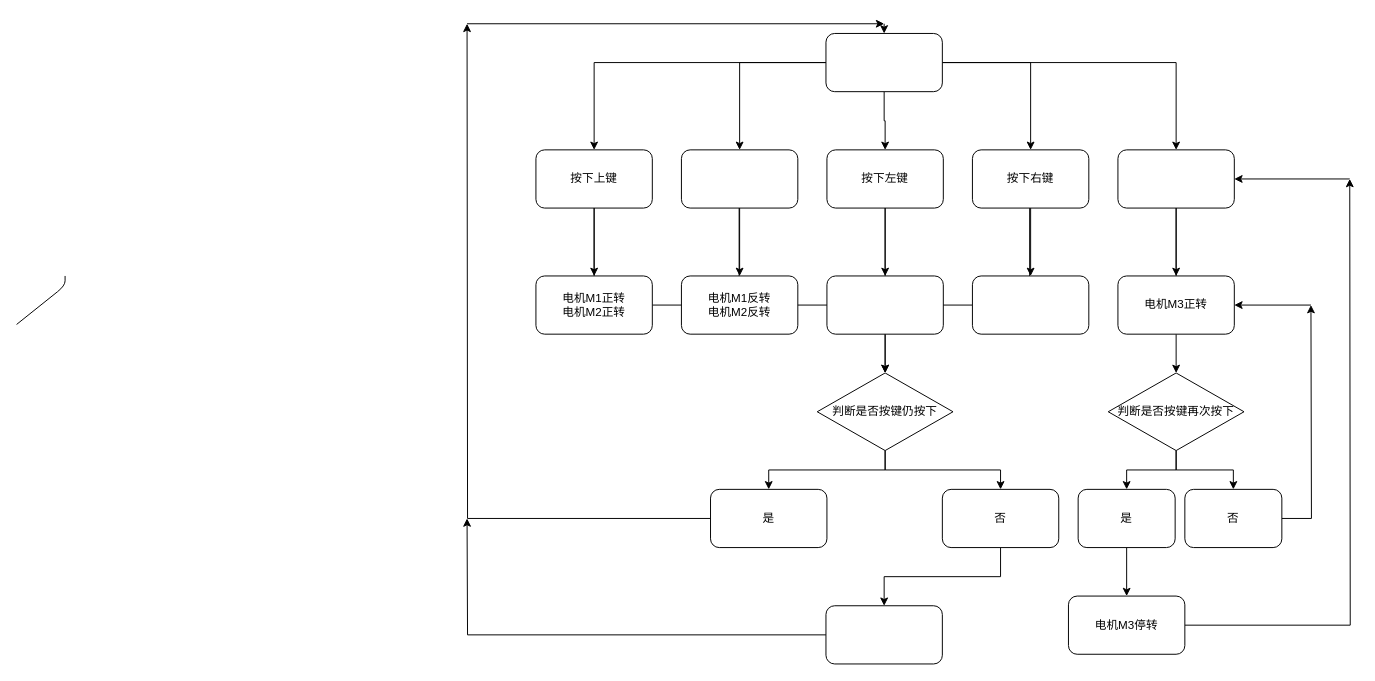
Image size: 1375x681. Some labels were removed from this diagram. Here are the shapes that lost their labels. From the top down, the box of each, then its label:
(825, 32, 942, 92): 读取遥控器命令
(680, 149, 798, 208): 按下下键
(1117, 149, 1234, 208): 按下攻击键
(826, 275, 943, 334): 电机M1正转 电机M2反转
(971, 275, 1089, 334): 电机M1反转 电机M2正转
(825, 605, 942, 664): 停止电机
